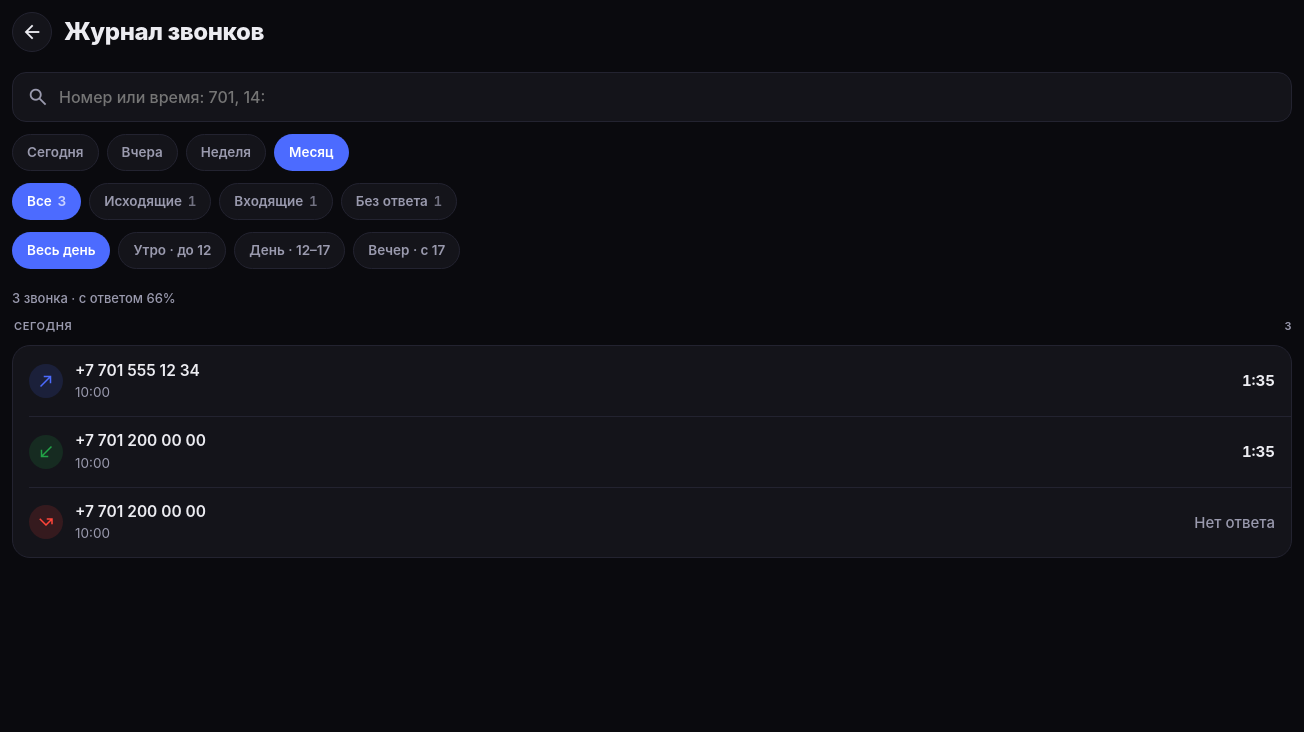
Test: журнал звонков › чип вида звонка оставляет только нужные
The image size is (1304, 732).
Expected: the text "+7 701 555 12 34" is shown, [75,361,200,380]
Step 1. Click the tab "Без ответа 1" → point(399, 202), box [341,183,457,220]
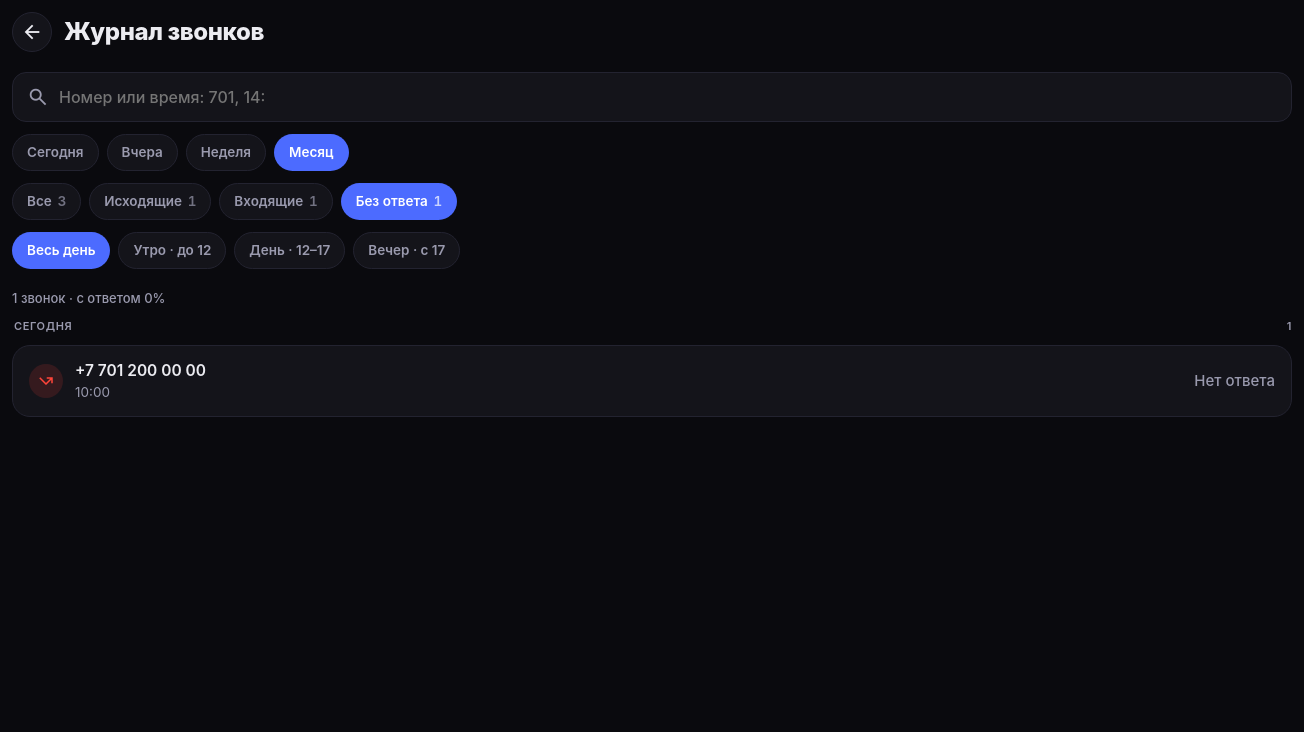
Expected: the text "Нет ответа" is shown, [1194,370,1275,391]
Now the text "+7 701 555 12 34" is gone
